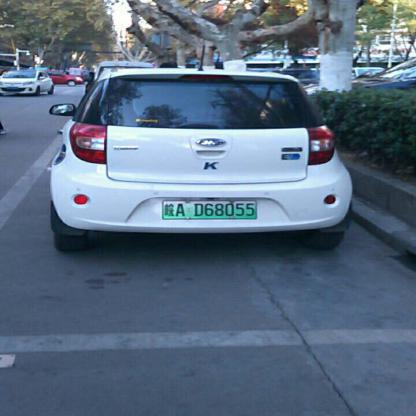lp: (162, 199, 257, 219)
